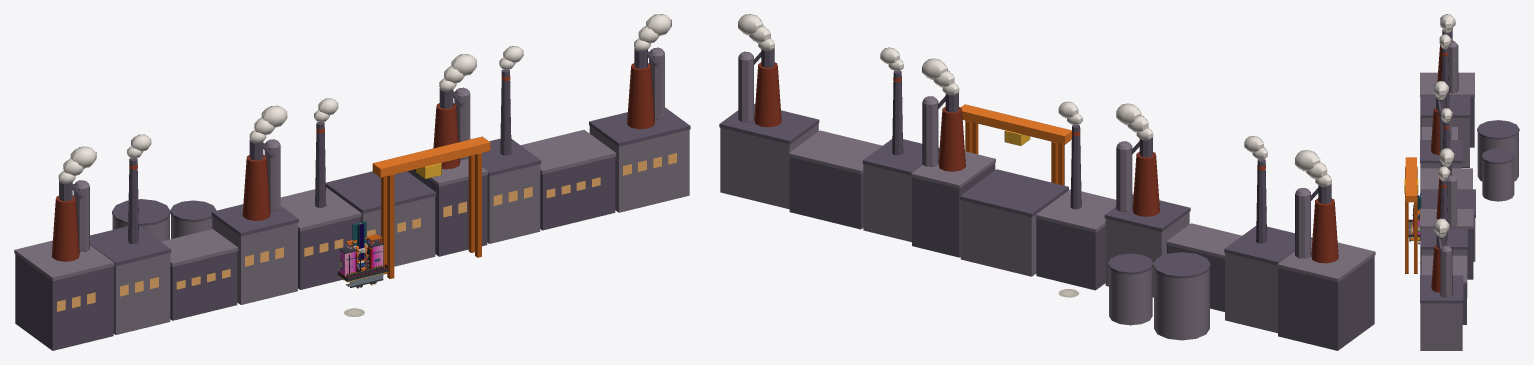
File: fps-kit-factory2.glb
3 renders of one model, left to right at view 1: azimuth 30°, elevation 25°; view 2: azimuth 150°, elevation 25°; view 3: azimuth 270°, elevation 25°, orthographic. The views are drawn at different scales.
Parts seen in each view (by area): view 1: KIT_FACTORY2_Backdrop_Heavy; view 2: KIT_FACTORY2_Backdrop_Heavy; view 3: KIT_FACTORY2_Backdrop_Heavy.
Boxes of the visible parts, <box> form: KIT_FACTORY2_Backdrop_Heavy: <box>14,14,690,350</box>; KIT_FACTORY2_Backdrop_Heavy: <box>719,14,1375,350</box>; KIT_FACTORY2_Backdrop_Heavy: <box>1404,14,1519,350</box>.
Bounding box in the file's own units: 233 × 75.96 × 50.32.
Materials: 1 (1 with a texture image).
